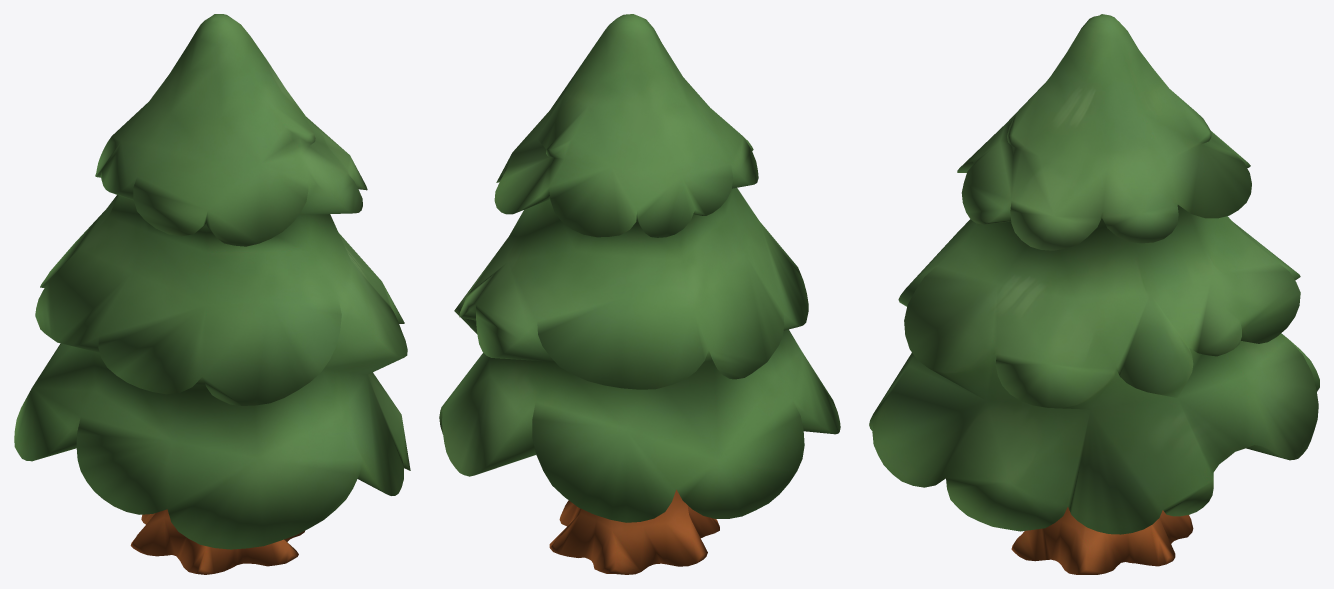
File: pine_tree.glb
3 views of the same model, side by side, from view 1: azimuth 30°, elevation 25°; view 2: azimuth 150°, elevation 25°; view 3: azimuth 270°, elevation 25° (orthographic).
Parts seen in each view (by area): view 1: tripo_node_e441784f-5182-4875-a1e0-b3d383bea32b; view 2: tripo_node_e441784f-5182-4875-a1e0-b3d383bea32b; view 3: tripo_node_e441784f-5182-4875-a1e0-b3d383bea32b.
Boxes of the visible parts, box(x1,y1,x2,y2) form: tripo_node_e441784f-5182-4875-a1e0-b3d383bea32b: box(14, 14, 410, 574); tripo_node_e441784f-5182-4875-a1e0-b3d383bea32b: box(439, 14, 840, 574); tripo_node_e441784f-5182-4875-a1e0-b3d383bea32b: box(869, 14, 1319, 574).
Bounding box in the file's own units: 0.6699 × 0.998 × 0.7793.
1 material, 1 textured.
